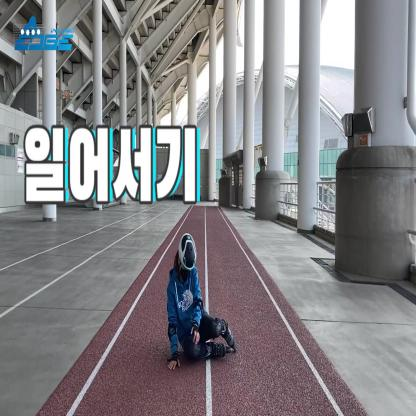Fall_Down: (166, 233, 236, 370)
